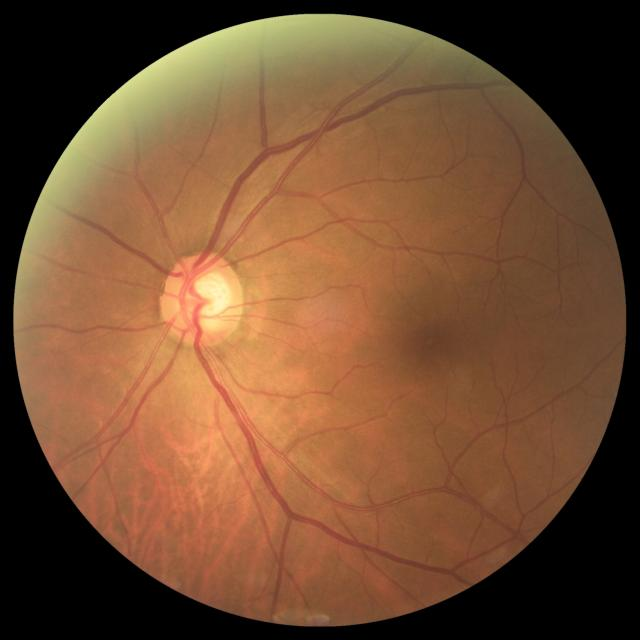OC: (174, 270, 232, 327)
OD: (162, 252, 244, 347)
